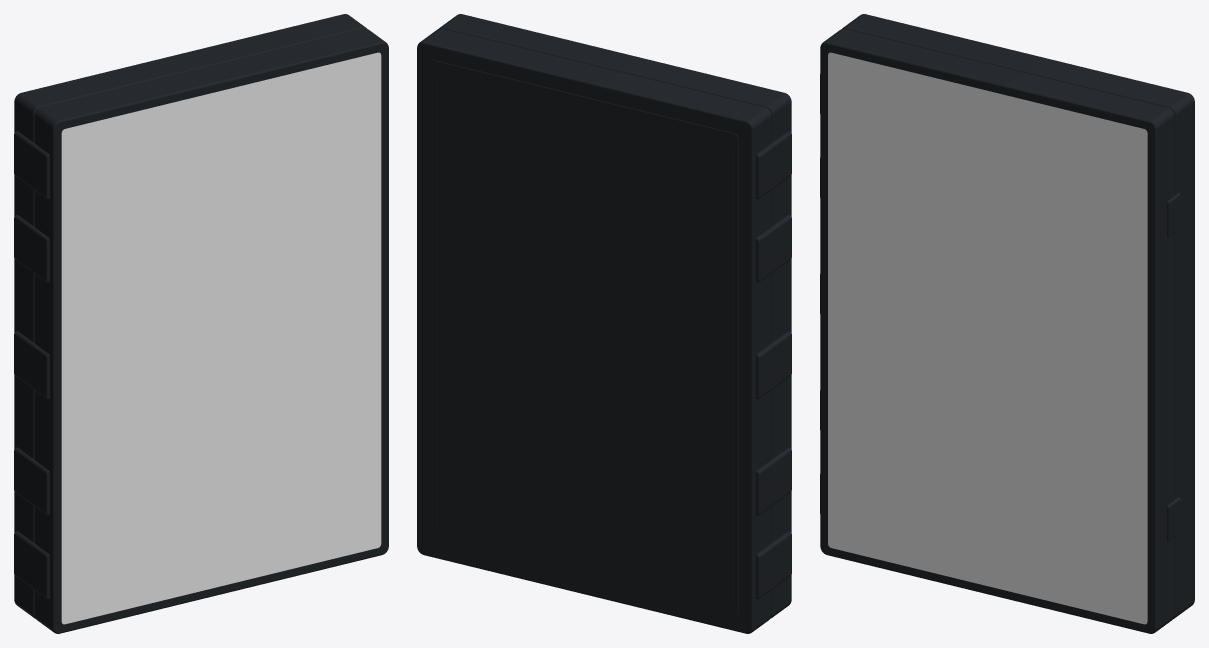
File: msx_box_jp.glb
3 views of the same model, side by side, from view 1: azimuth 30°, elevation 25°; view 2: azimuth 150°, elevation 25°; view 3: azimuth 330°, elevation 25° (orthographic).
Visible parts, largest first — view 1: artwork_front, case_front_lid, case_rear_tray, case_spine_hinge (×5); view 2: case_rear_inset, case_rear_tray, case_front_lid, case_spine_hinge (×5), case_rear_edge (×2); view 3: artwork_front, case_front_lid, case_rear_tray, case_latch (×2).
Part boxes in pixels (<box>): artwork_front: <box>61,52,381,624</box>; case_front_lid: <box>34,29,388,633</box>; case_rear_tray: <box>14,14,366,618</box>; case_spine_hinge (×5): <box>14,131,49,599</box>; case_rear_inset: <box>430,60,738,616</box>; case_rear_tray: <box>417,28,771,633</box>; case_front_lid: <box>439,14,791,618</box>; case_spine_hinge (×5): <box>756,131,791,599</box>; case_rear_edge (×2): <box>434,72,733,604</box>; artwork_front: <box>828,52,1147,624</box>; case_front_lid: <box>820,29,1174,633</box>; case_rear_tray: <box>842,14,1194,618</box>; case_latch (×2): <box>1167,193,1180,541</box>.
Size of the model in its own units: 0.1199 by 0.172 by 0.0244.
3 materials, 1 textured.
